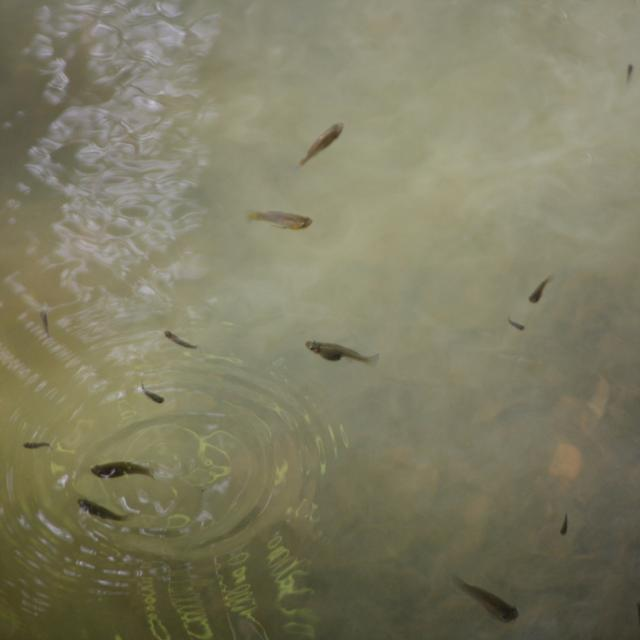Sivrisinek Baligi: (448, 568, 520, 625), (303, 331, 376, 372), (86, 449, 168, 485), (292, 117, 344, 173), (246, 201, 312, 235), (72, 490, 126, 530), (160, 324, 201, 357), (526, 269, 556, 310), (21, 432, 55, 461), (136, 376, 168, 406), (500, 310, 532, 339), (35, 311, 60, 339)
